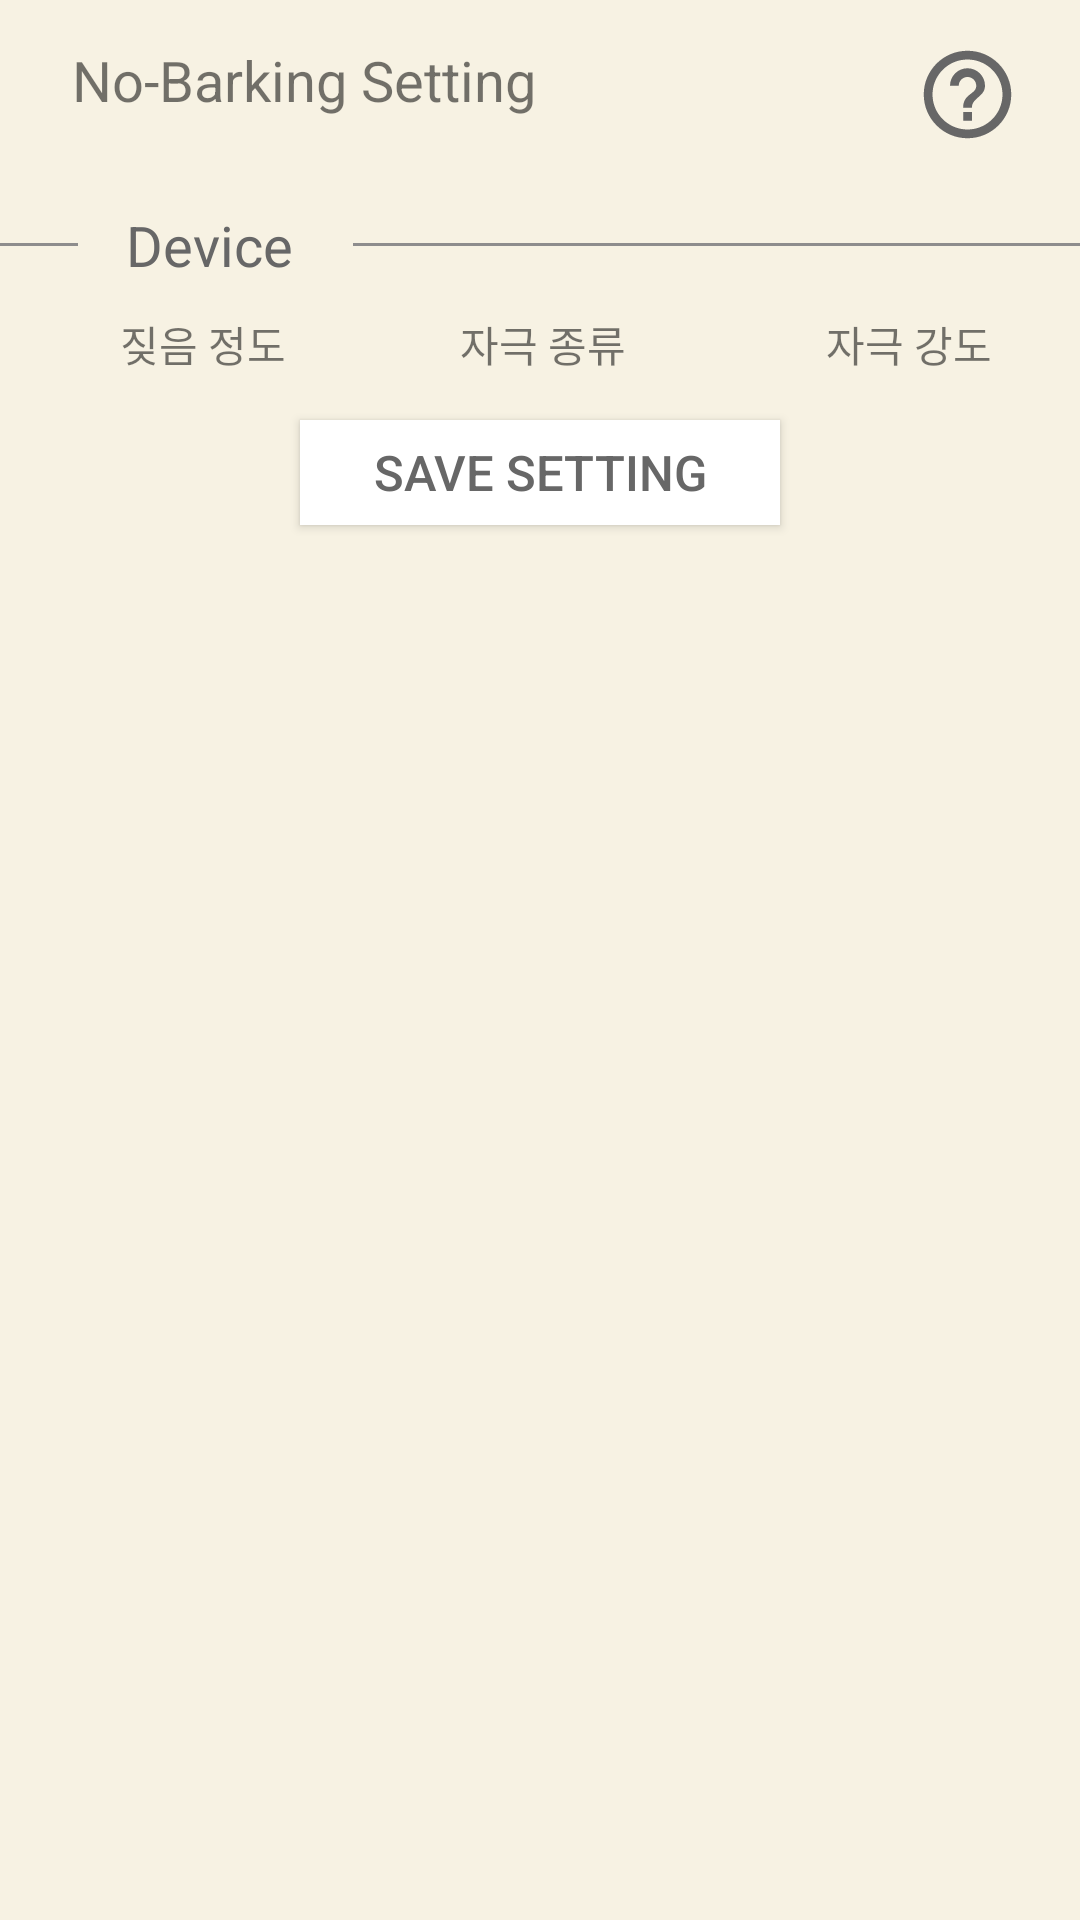

Screen size 1080px×1920px. Icon name, then its box in pixels as (x1, y1, x2, y2):
help: (923, 50, 1012, 139)
